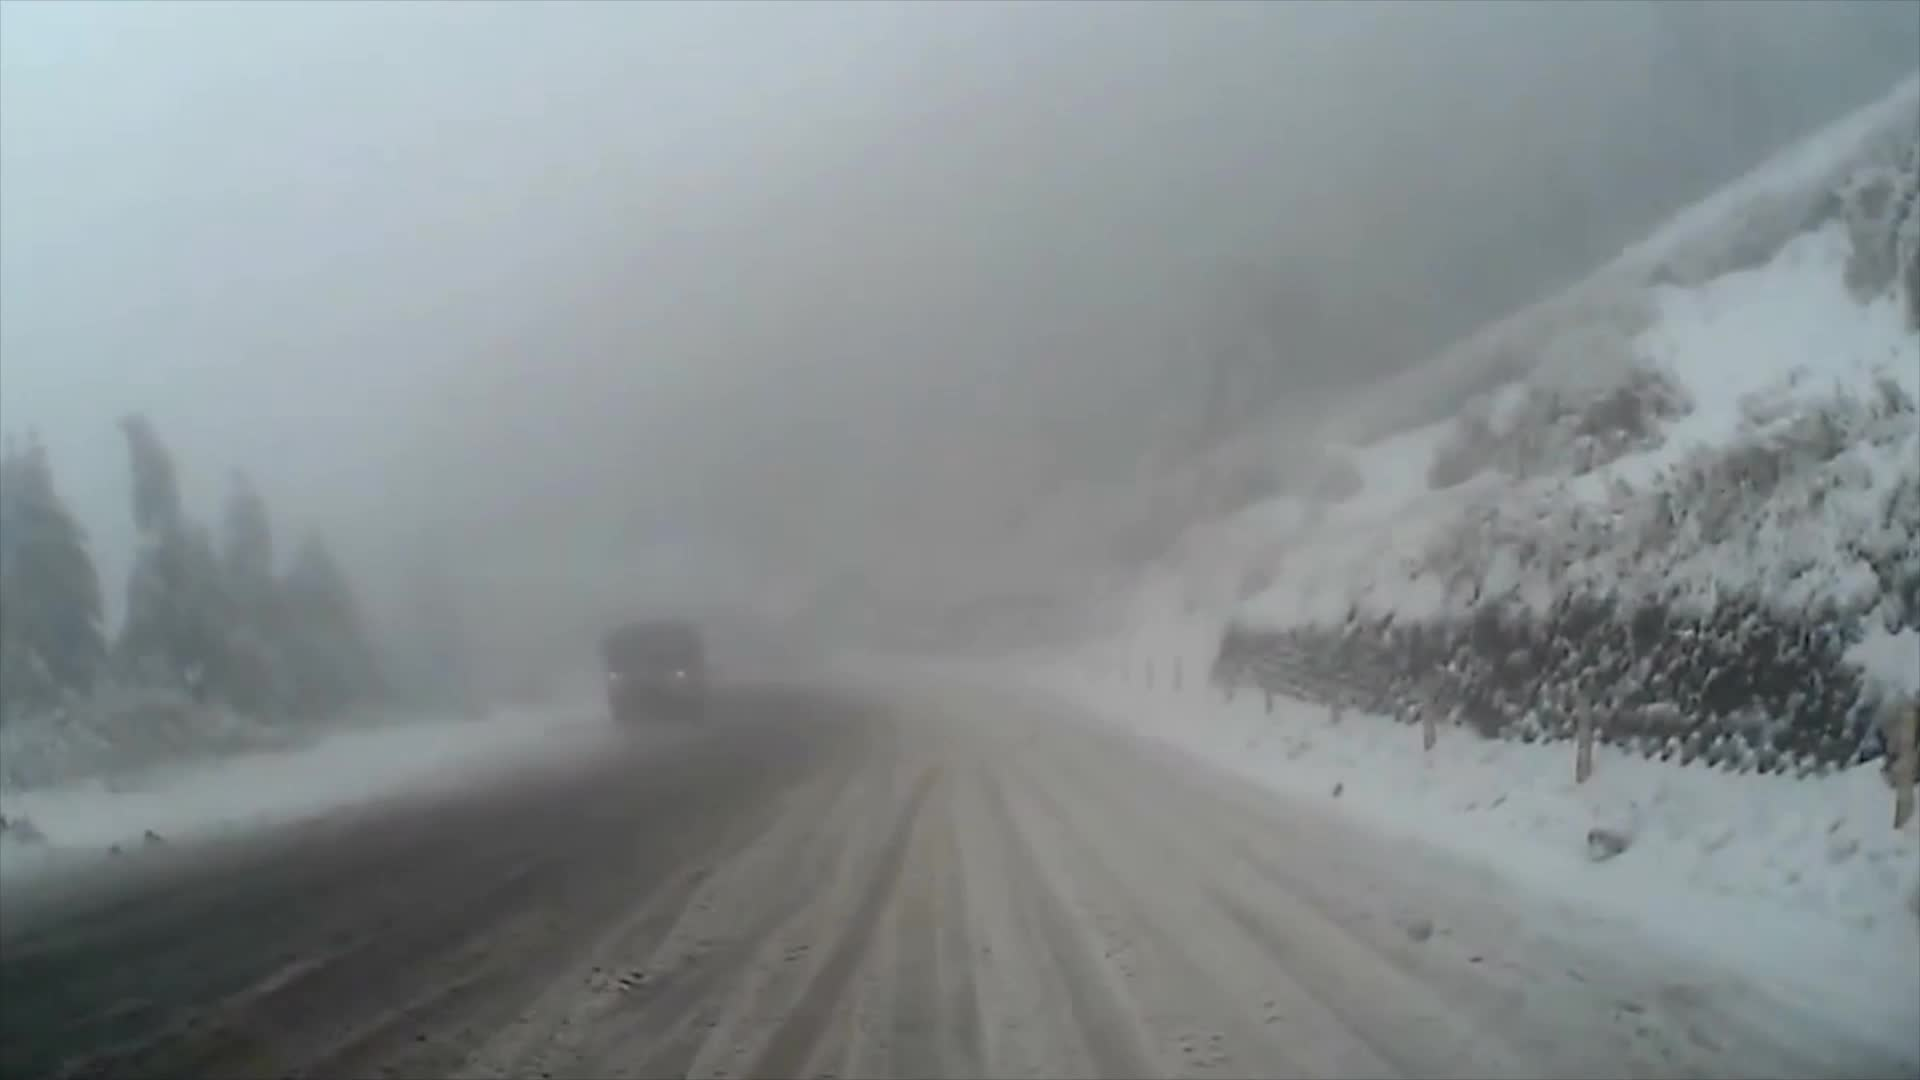vehicle: (593, 626, 705, 725)
